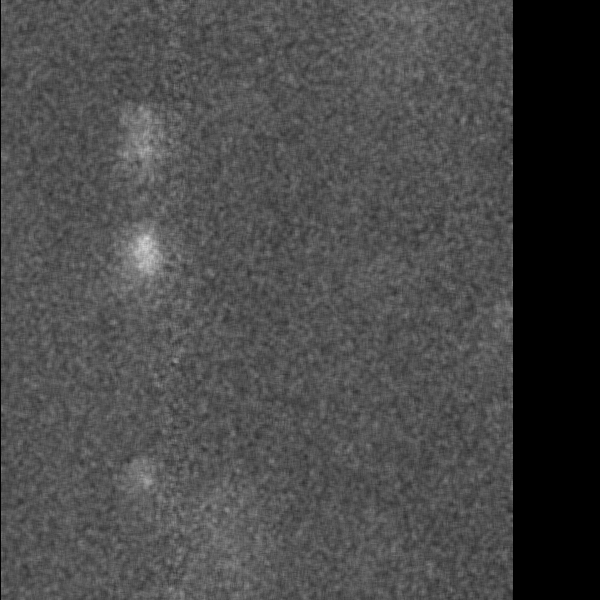spark: (120, 219, 170, 313), (124, 96, 164, 196), (179, 506, 229, 579), (375, 10, 450, 32), (133, 461, 164, 503)
